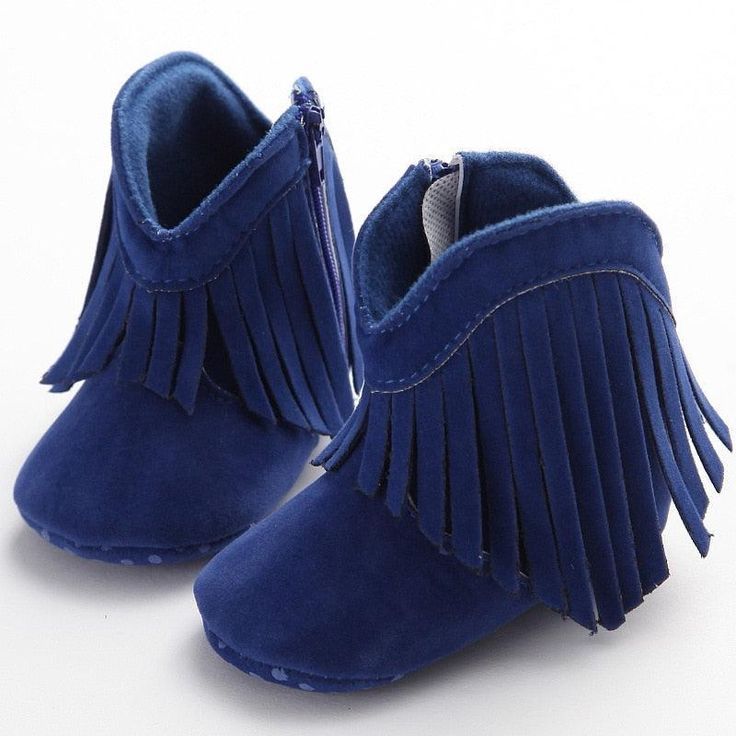gamuza: (14, 51, 733, 676)
